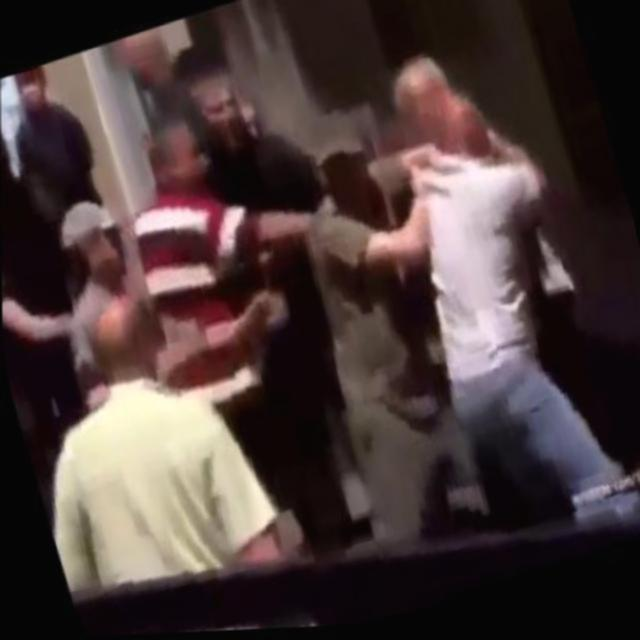fight: (350, 28, 619, 538)
